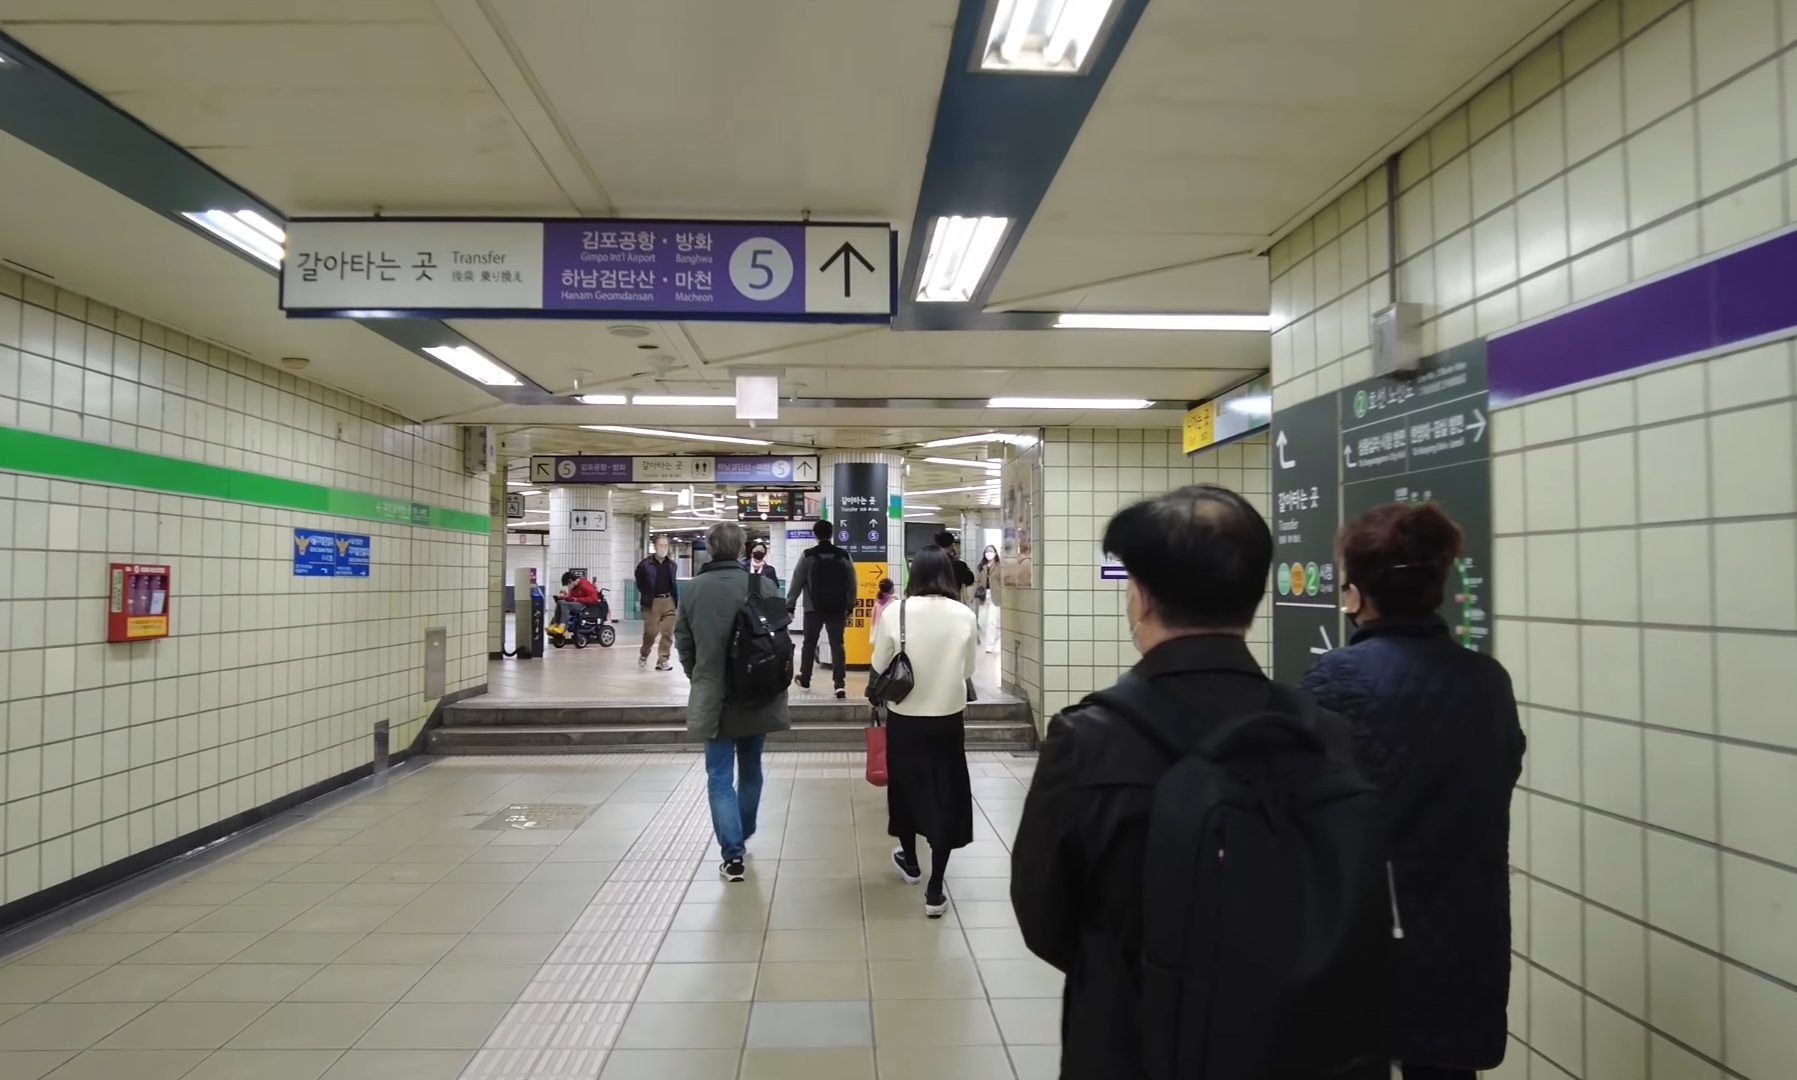signBoard: (277, 214, 897, 327)
